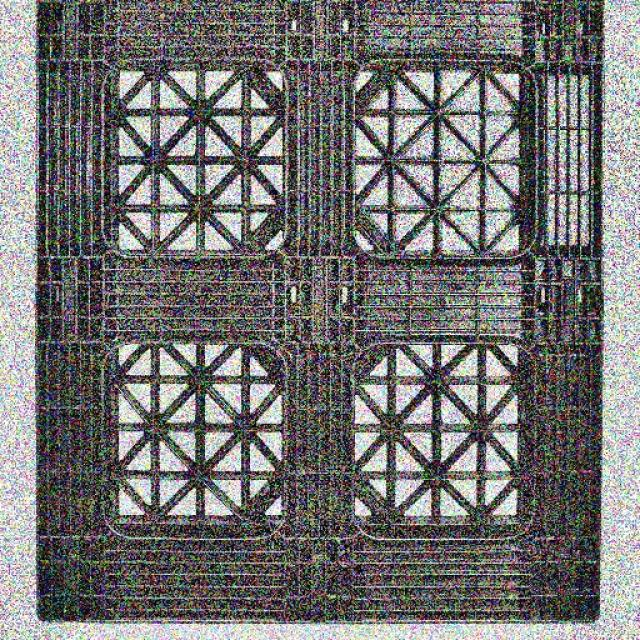non-igps: (23, 0, 613, 633)
